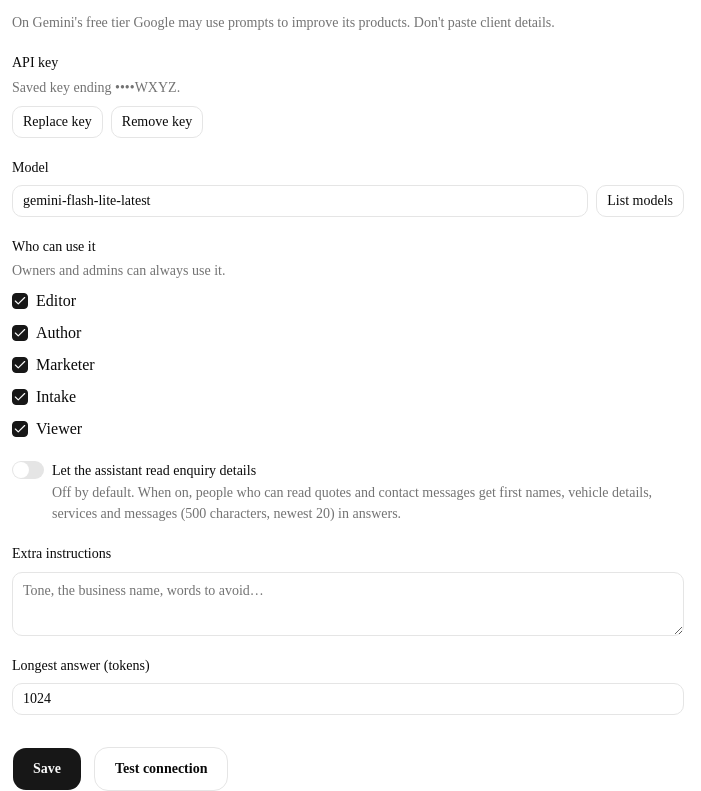
Test case: SettingsView › shows the Test connection result inline
(page scrolled)
Click the button "Test connection".
click(161, 769)  # box [94,747,228,790]
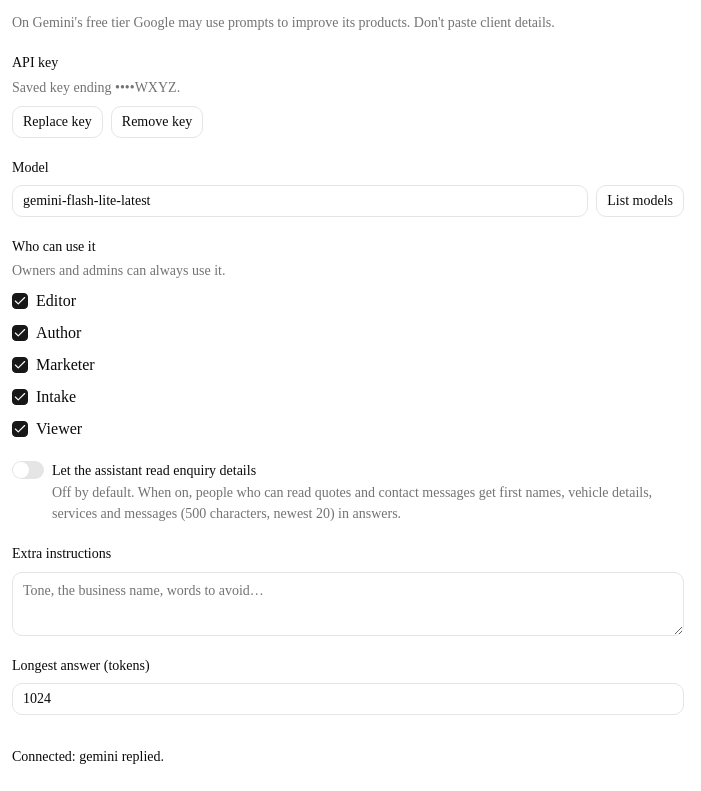
Now the text "Connected: gemini replied." is shown, box [12,749,164,764]
